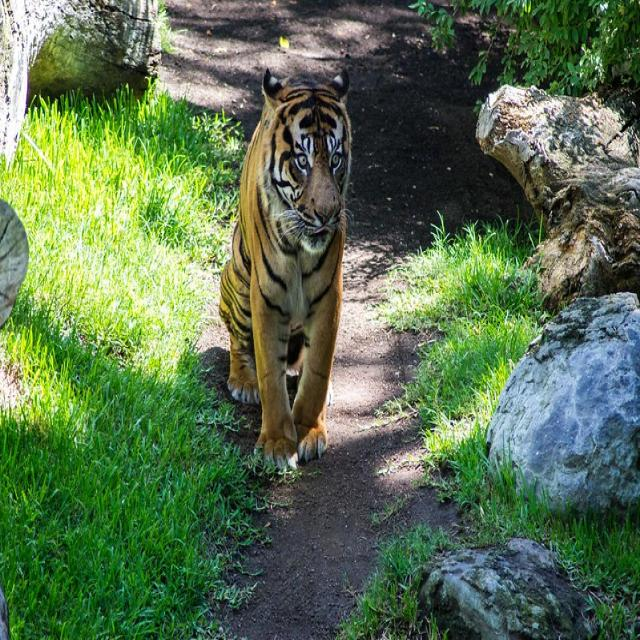Tiger: (216, 68, 352, 471)
